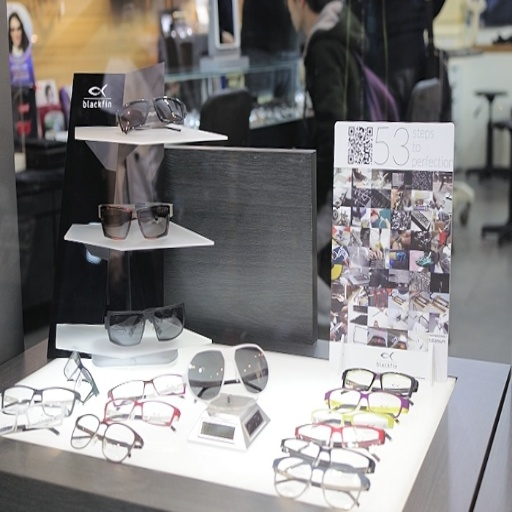hand: (372, 247, 382, 257), (368, 247, 374, 259)
